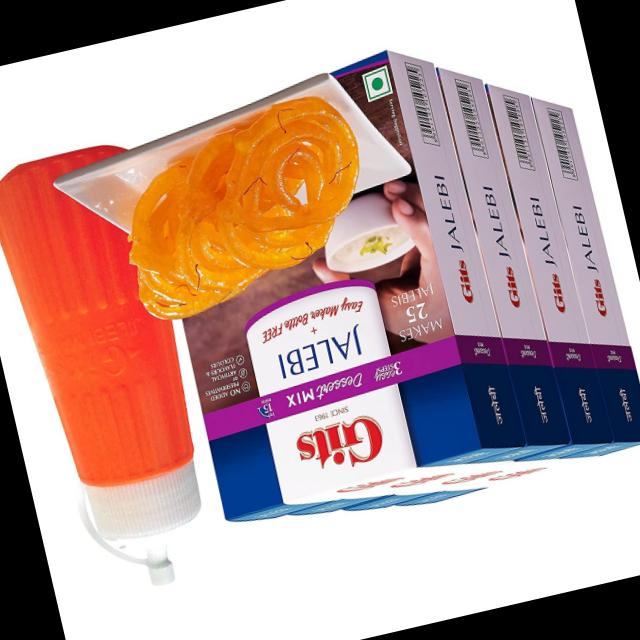jalebi: (117, 106, 362, 332)
